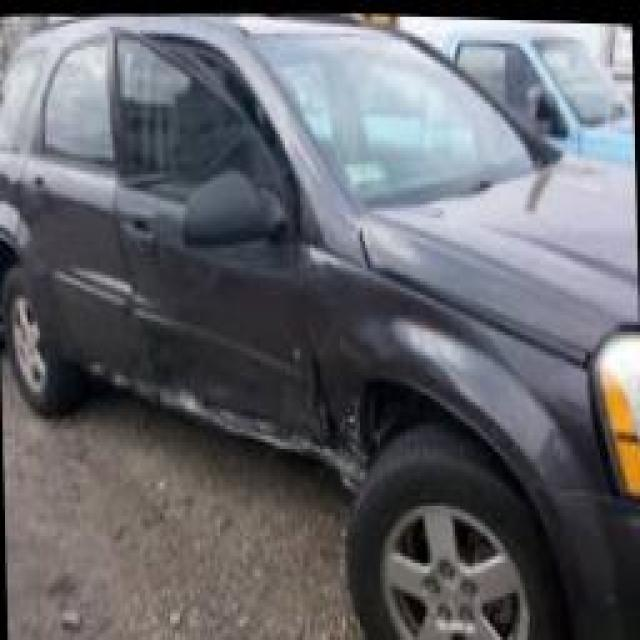Door: (129, 190, 320, 446)
Fender: (307, 244, 597, 489)
